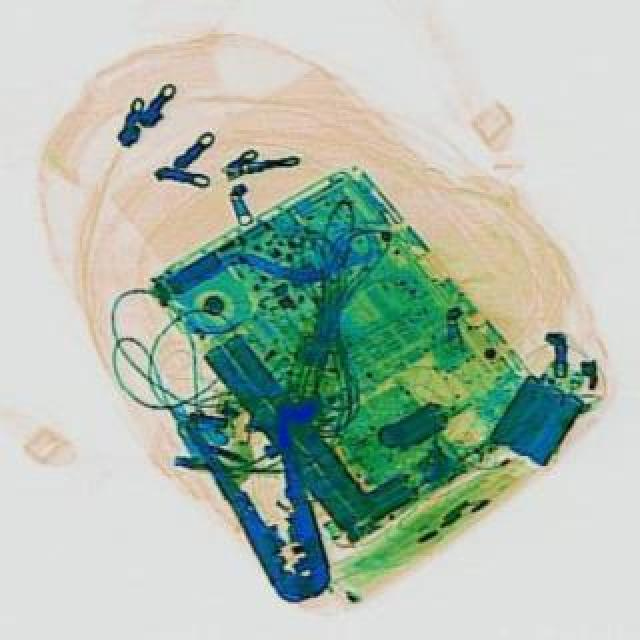wrench: (182, 388, 350, 612)
